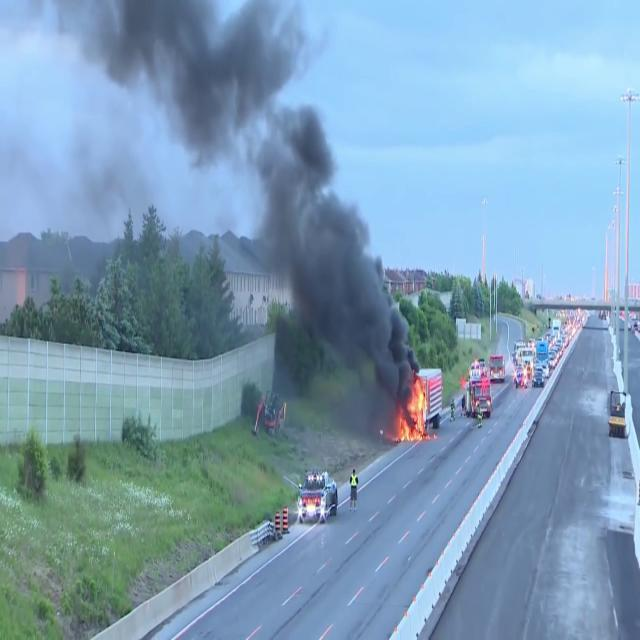Fire: (398, 370, 428, 442)
Smoke: (84, 1, 406, 400)
